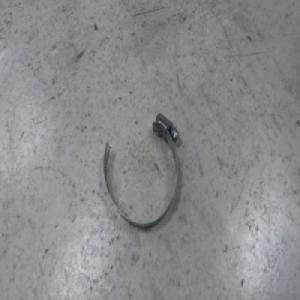AdjustableClamp: (102, 109, 184, 235)
